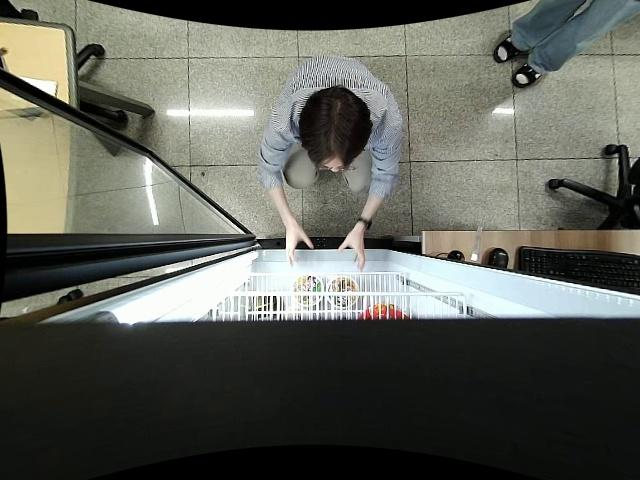00_hand: (286, 228, 315, 265), (339, 232, 366, 267)
